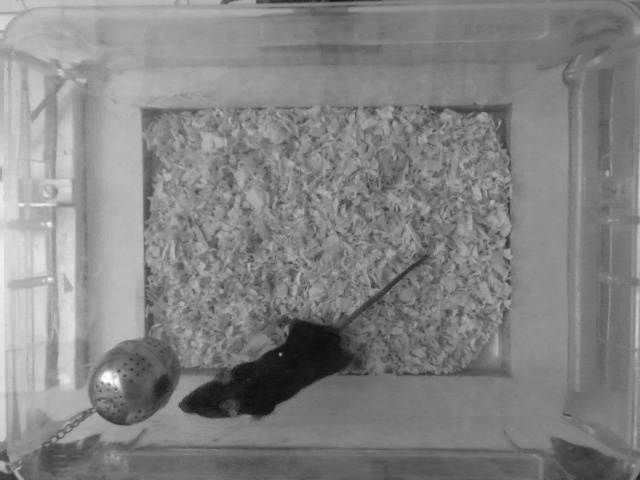mice: (178, 256, 430, 421)
